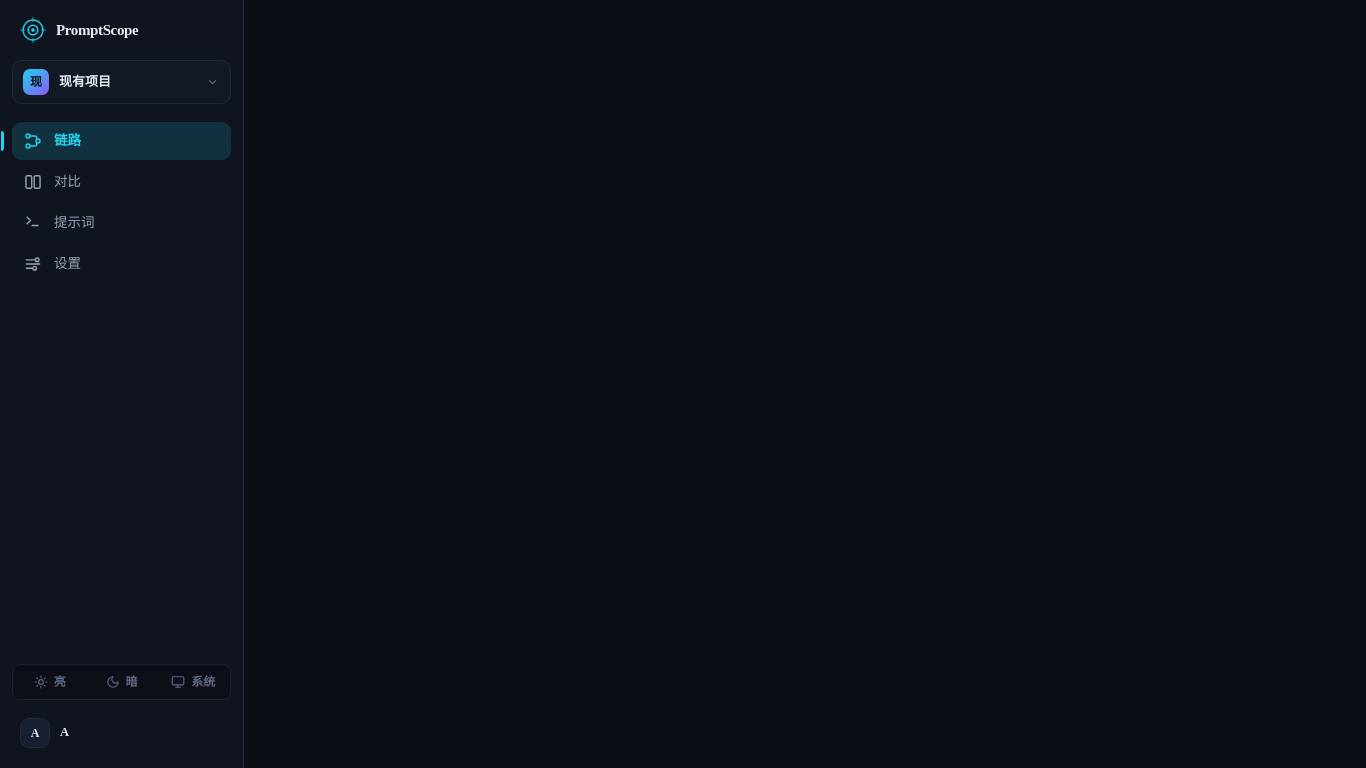
AppSidebar workspace switcher › shows a 新建项目 item after opening the dropdown, which opens the create-project dialog
Expected: the text "新建项目" is not shown
Click the button with aria-label "切换项目".
click(122, 82)  # box [12, 60, 231, 104]
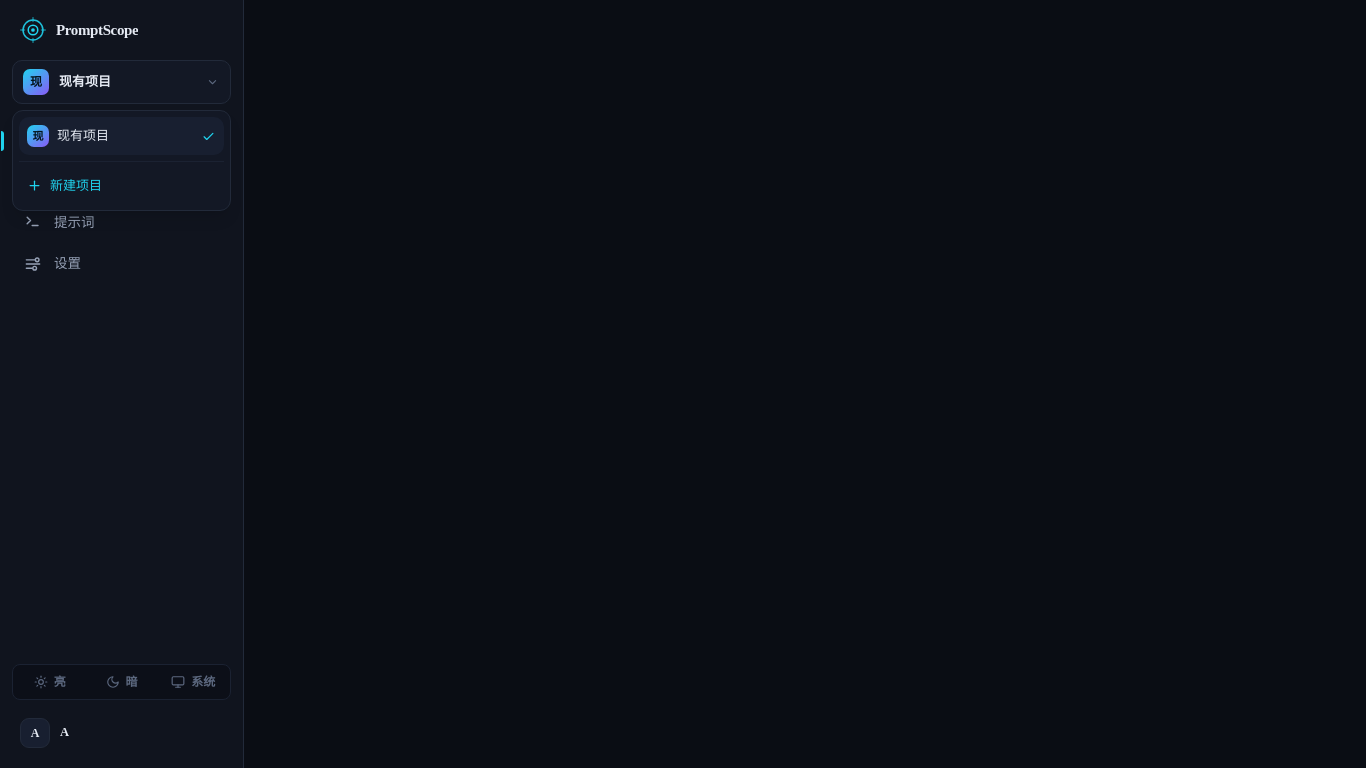
Expected: the text "新建项目" is shown, [50, 178, 102, 193]
Click the button "新建项目".
click(122, 186)  # box [19, 168, 224, 204]
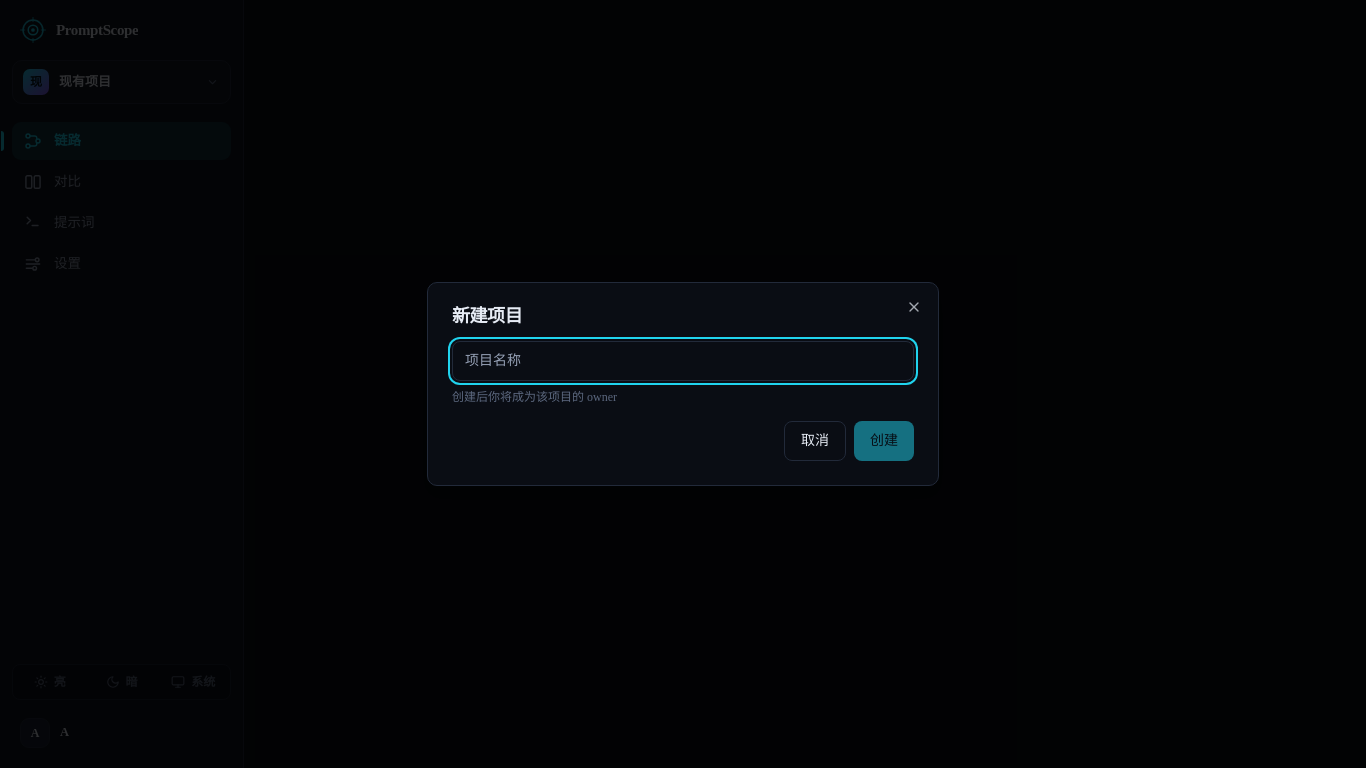
Expected: the text "创建后你将成为该项目的 owner" is shown, [452, 390, 617, 404]
